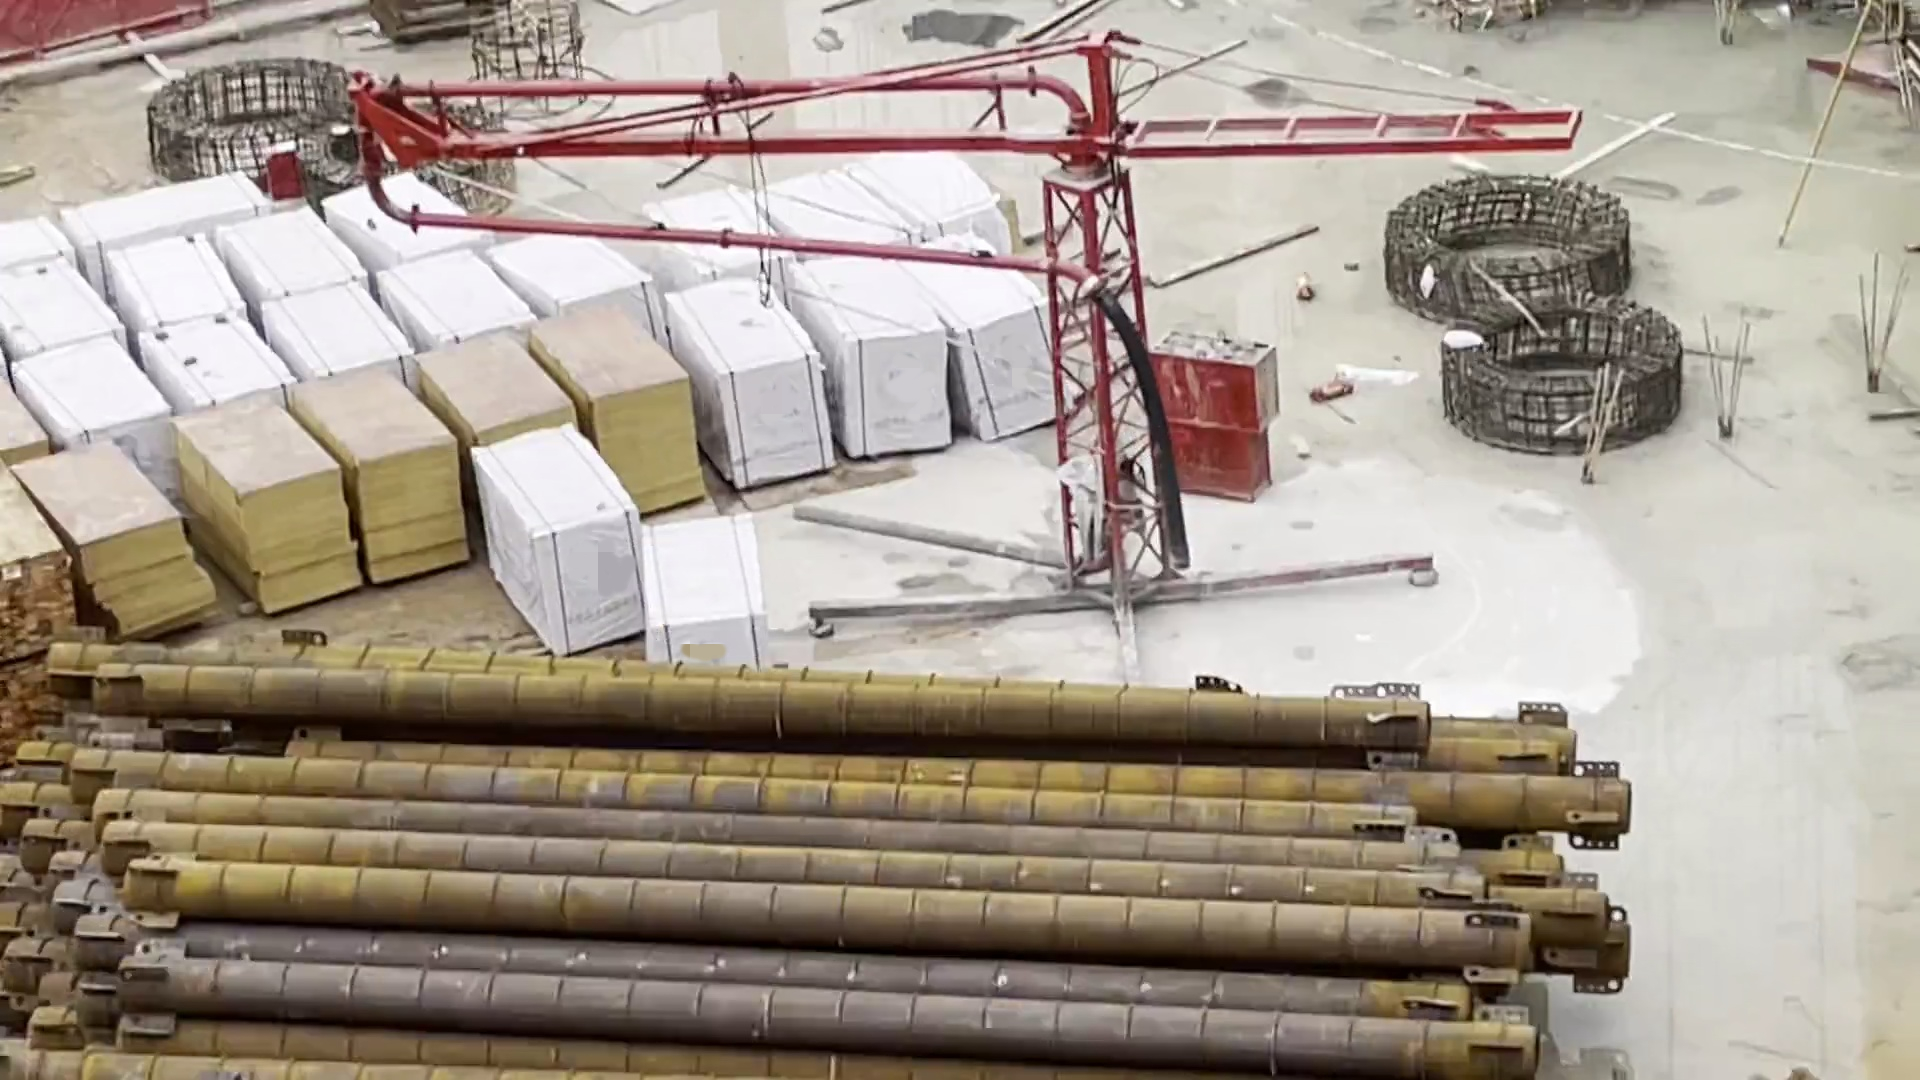board: (158, 404, 373, 630), (319, 357, 476, 595), (545, 293, 705, 517), (49, 456, 215, 644), (439, 328, 570, 456)
wood: (1, 535, 82, 644)
